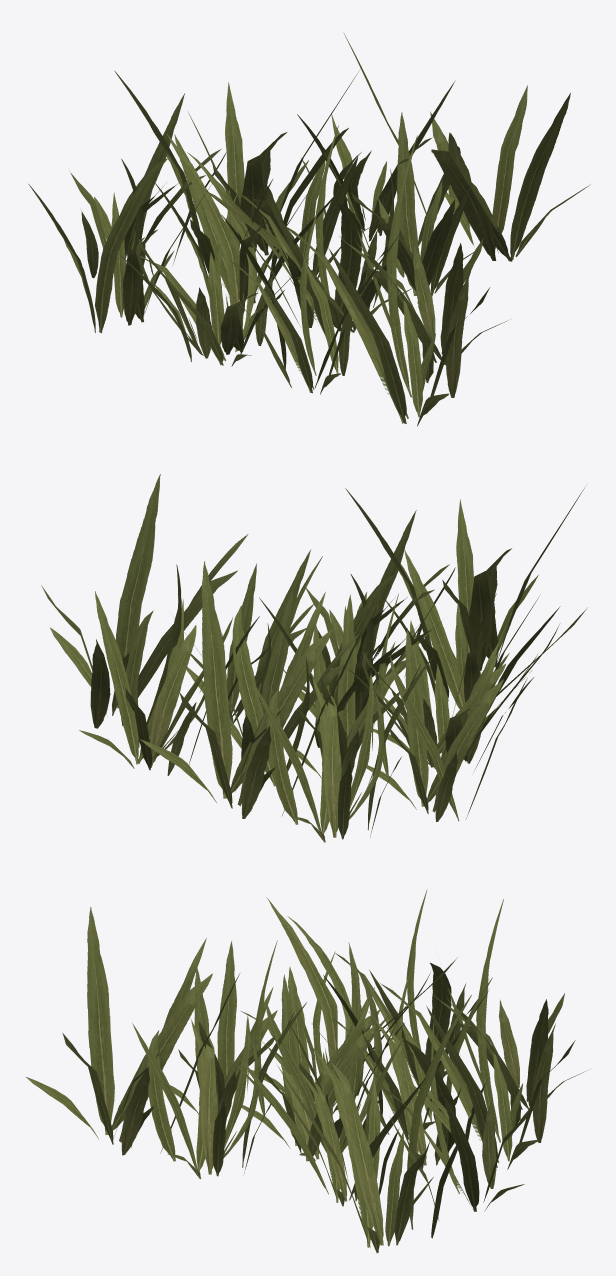
3 renders of one model, top to bottom at view 1: azimuth 30°, elevation 25°; view 2: azimuth 150°, elevation 25°; view 3: azimuth 270°, elevation 25°, orthographic. The views are drawn at different scales.
Parts seen in each view (by area): view 1: LowPoly_Grass; view 2: LowPoly_Grass; view 3: LowPoly_Grass.
Part boxes in pixels (bbox=[...]): LowPoly_Grass: bbox=[28, 32, 590, 426]; LowPoly_Grass: bbox=[41, 474, 587, 842]; LowPoly_Grass: bbox=[26, 889, 591, 1253].
Size of the model in its own units: 0.9885 by 0.4009 by 0.985.
Materials: 1 (1 with a texture image).
